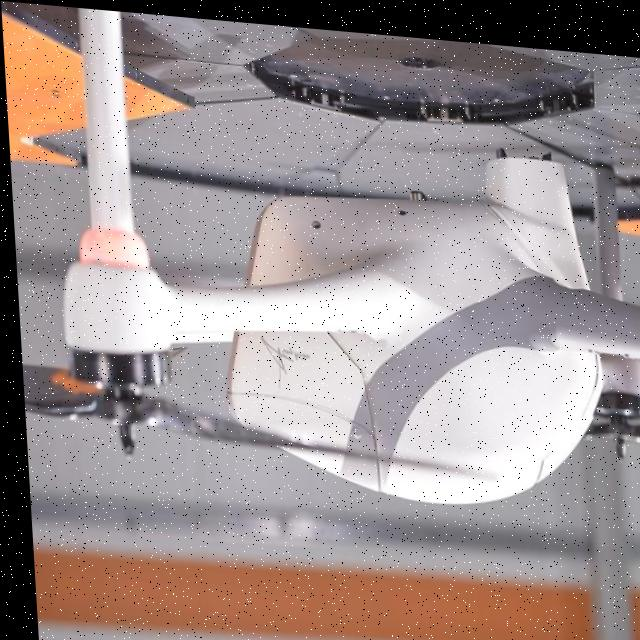drones: (0, 0, 640, 554)
